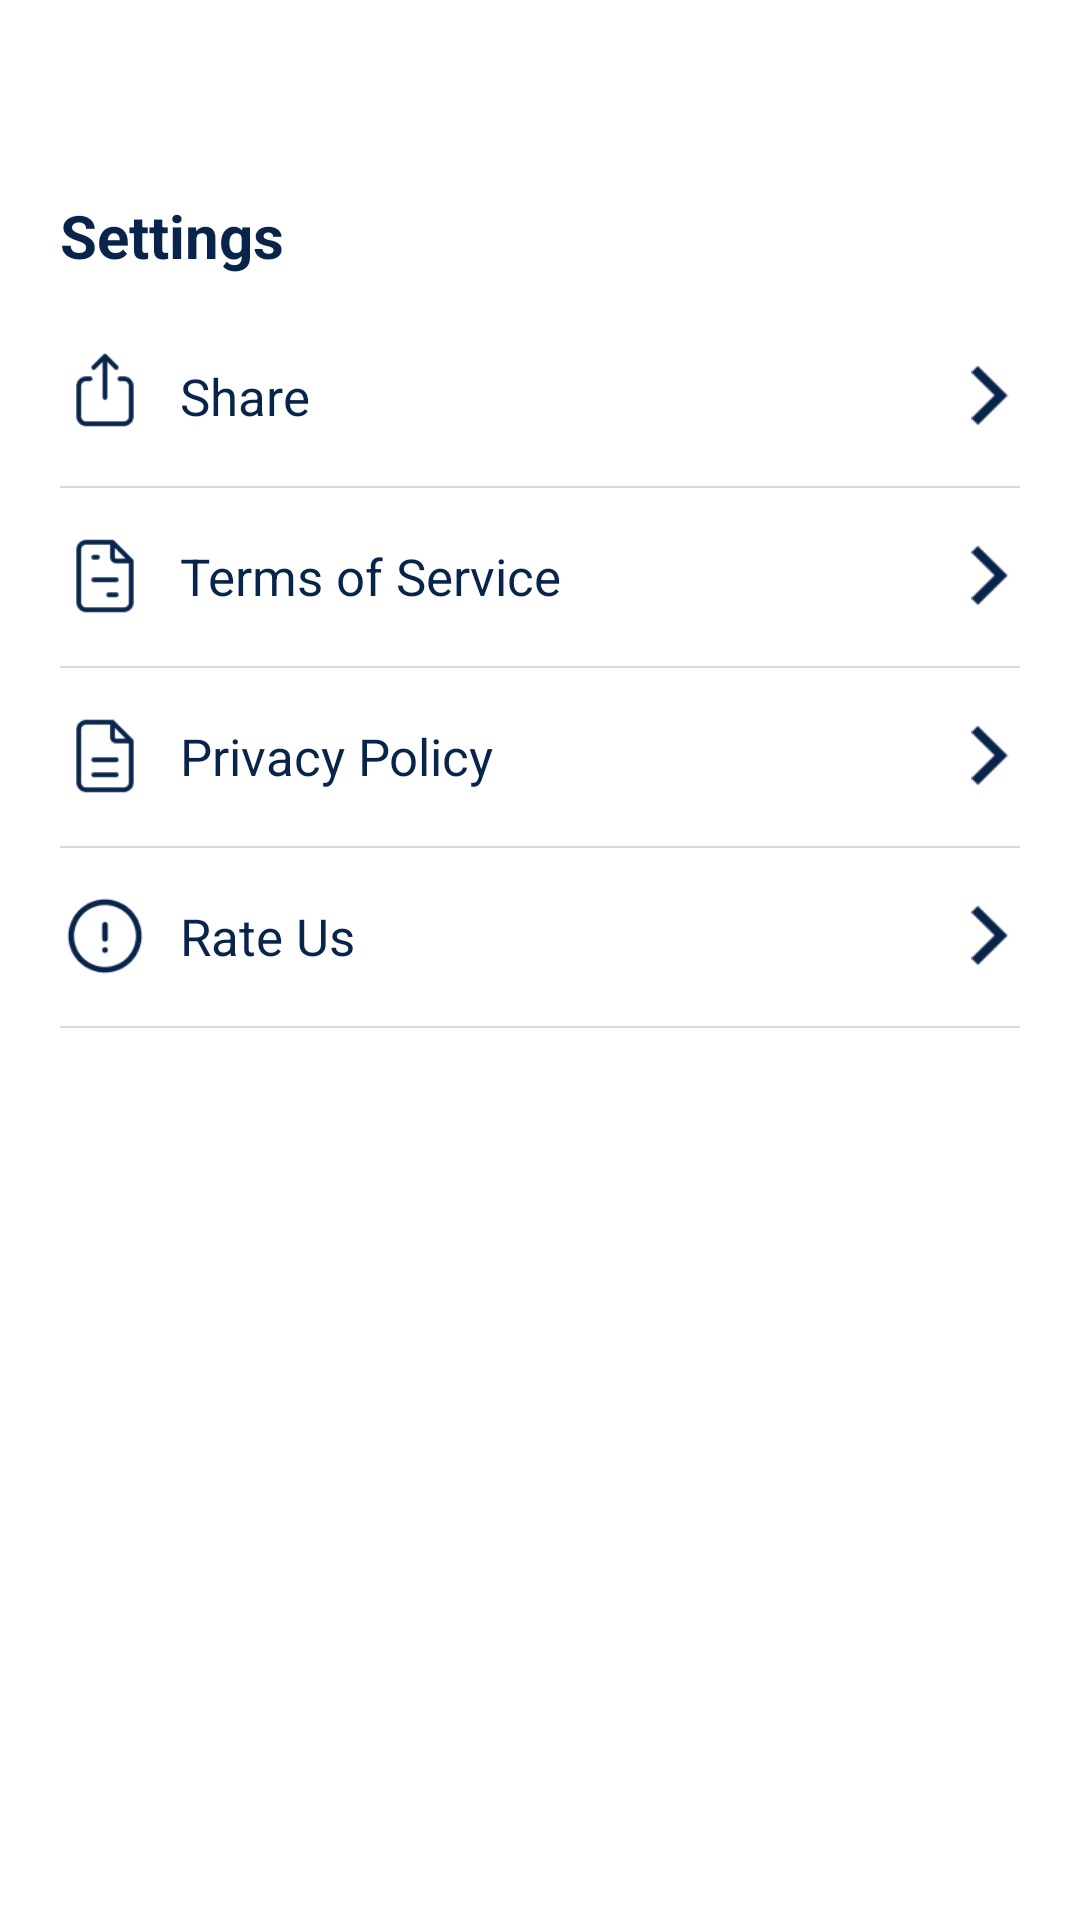

Named icons in this screenshot (1080 x 1920) and their bounding boxes, (x1, y1, x2, y2):
next: (971, 366, 1008, 425), (971, 546, 1008, 605), (971, 726, 1008, 785), (971, 906, 1008, 965)
